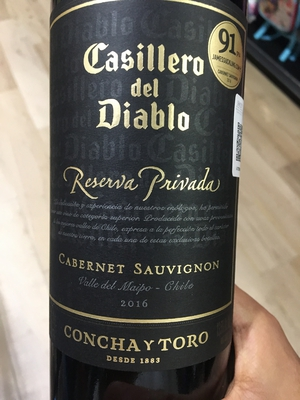casillero del diablo reserva privada cabernet sauvignon: (47, 3, 245, 400)
